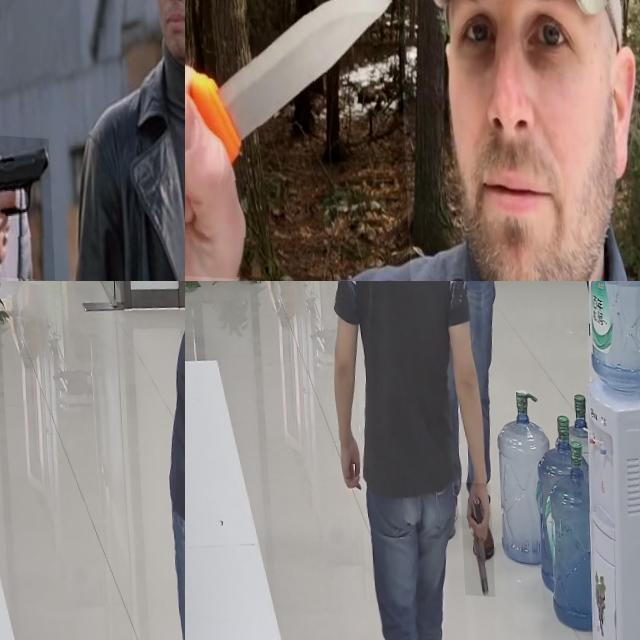-: (185, 0, 406, 281)
gun-knife-thesis - v11 Yolov5 augmented: (0, 129, 50, 276), (456, 477, 490, 592)
